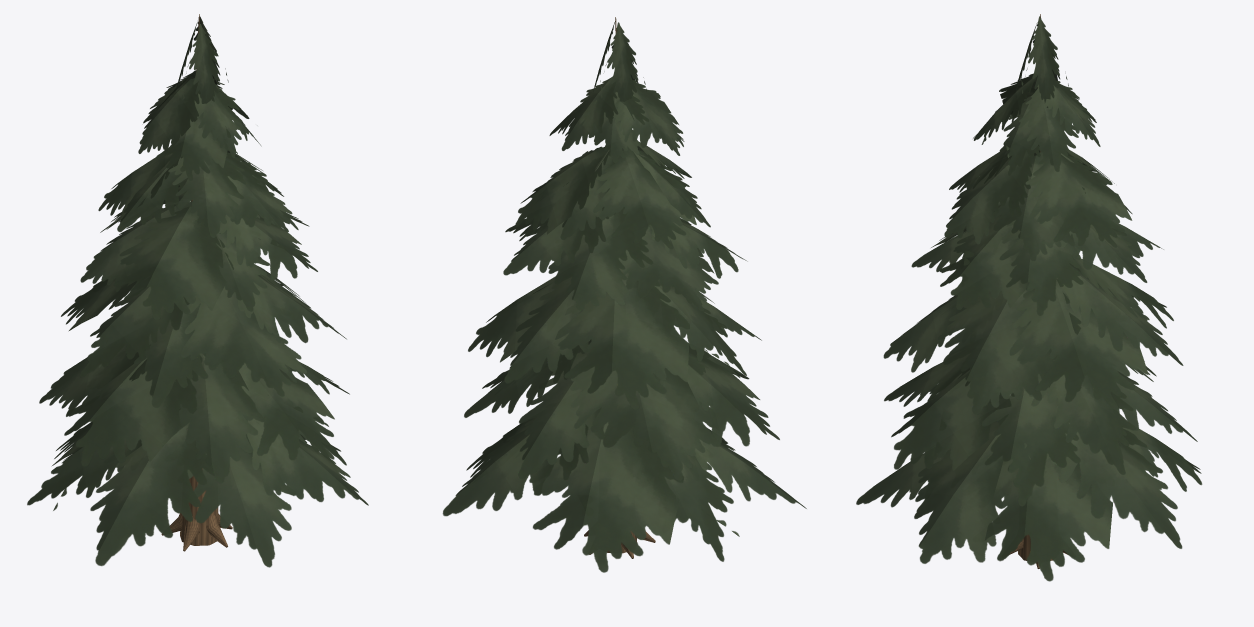
The model's file is source_3.glb.
3 renders of one model, left to right at view 1: azimuth 30°, elevation 25°; view 2: azimuth 150°, elevation 25°; view 3: azimuth 270°, elevation 25°, orthographic. The views are drawn at different scales.
Parts seen in each view (by area): view 1: Tapered harvest trunk; view 2: Tapered harvest trunk; view 3: Tapered harvest trunk.
Part boxes in pixels (<box>): Tapered harvest trunk: <box>27,14,368,567</box>; Tapered harvest trunk: <box>442,17,806,572</box>; Tapered harvest trunk: <box>856,14,1202,581</box>.
Size of the model in its own units: 8.41 by 12.31 by 8.21.
Materials: 3 (2 with a texture image).
